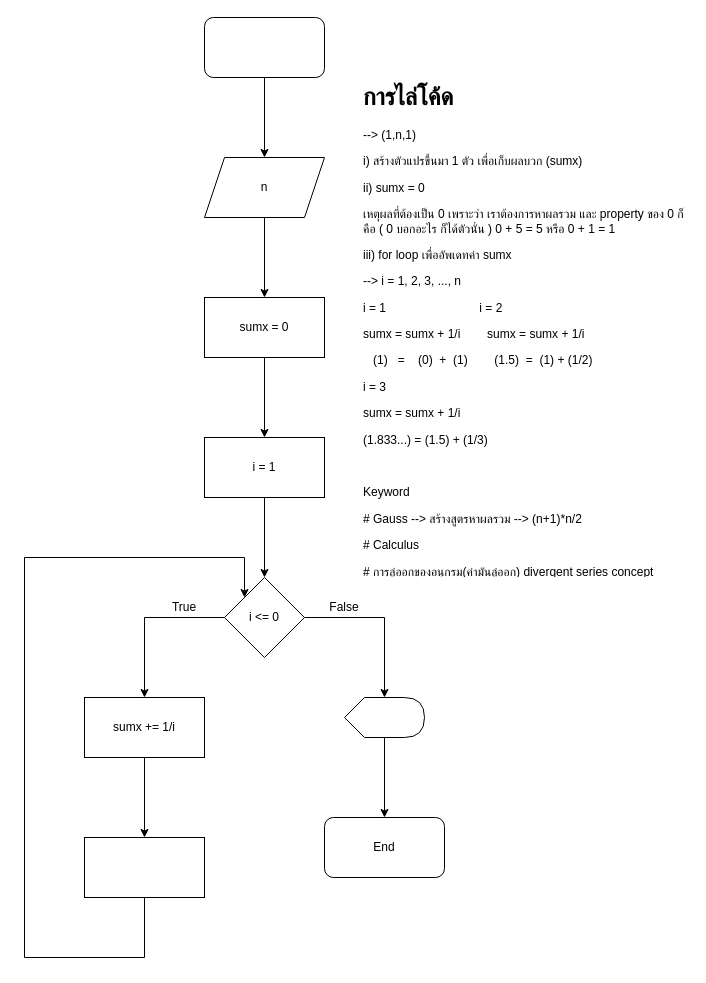
This 706x983 diagram has some shape labels left out. Here are the shapes that lost their labels. From the top down, the centre of each, then its label:
At (x=264, y=47): "start".
At (x=384, y=717): "sumx".
At (x=144, y=867): "i += 1".
